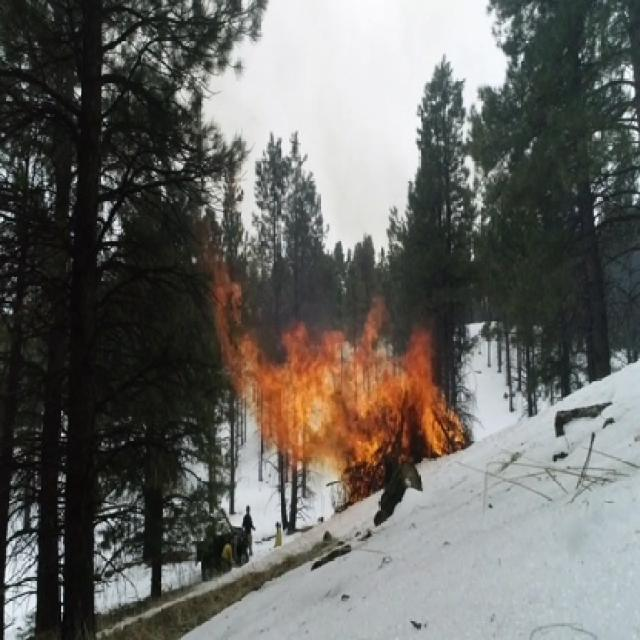Fire: (194, 217, 474, 503)
